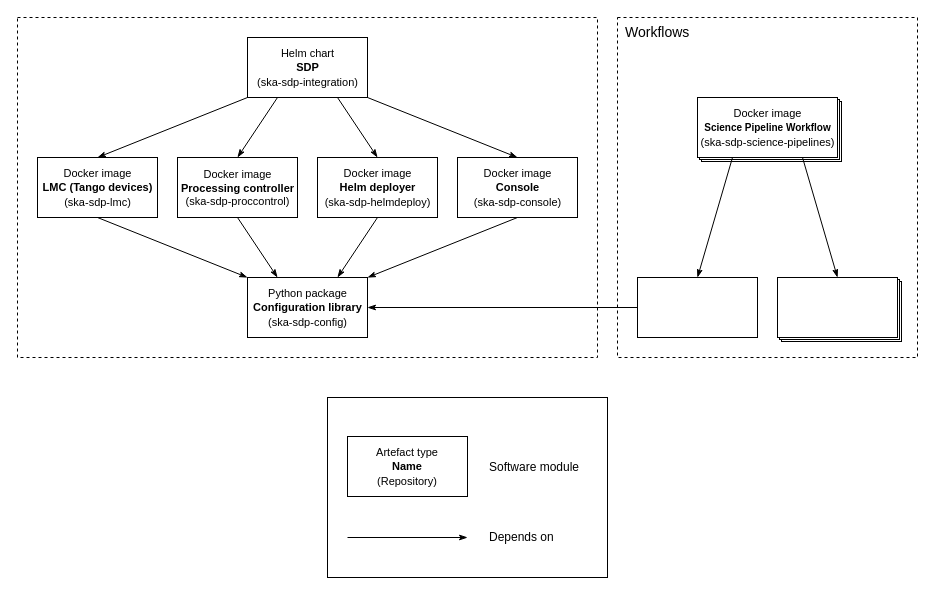
This 935x595 diagram has some shape labels left out. Each missing label, with the box of its shape:
Control and Services: (16, 16, 598, 358)
Helm chart Processing deployment (ska-sdp-helmdeploy -charts): (776, 276, 898, 338)
Key: (326, 396, 608, 578)
Python package Workflow library (ska-sdp-workflow): (636, 276, 758, 338)
